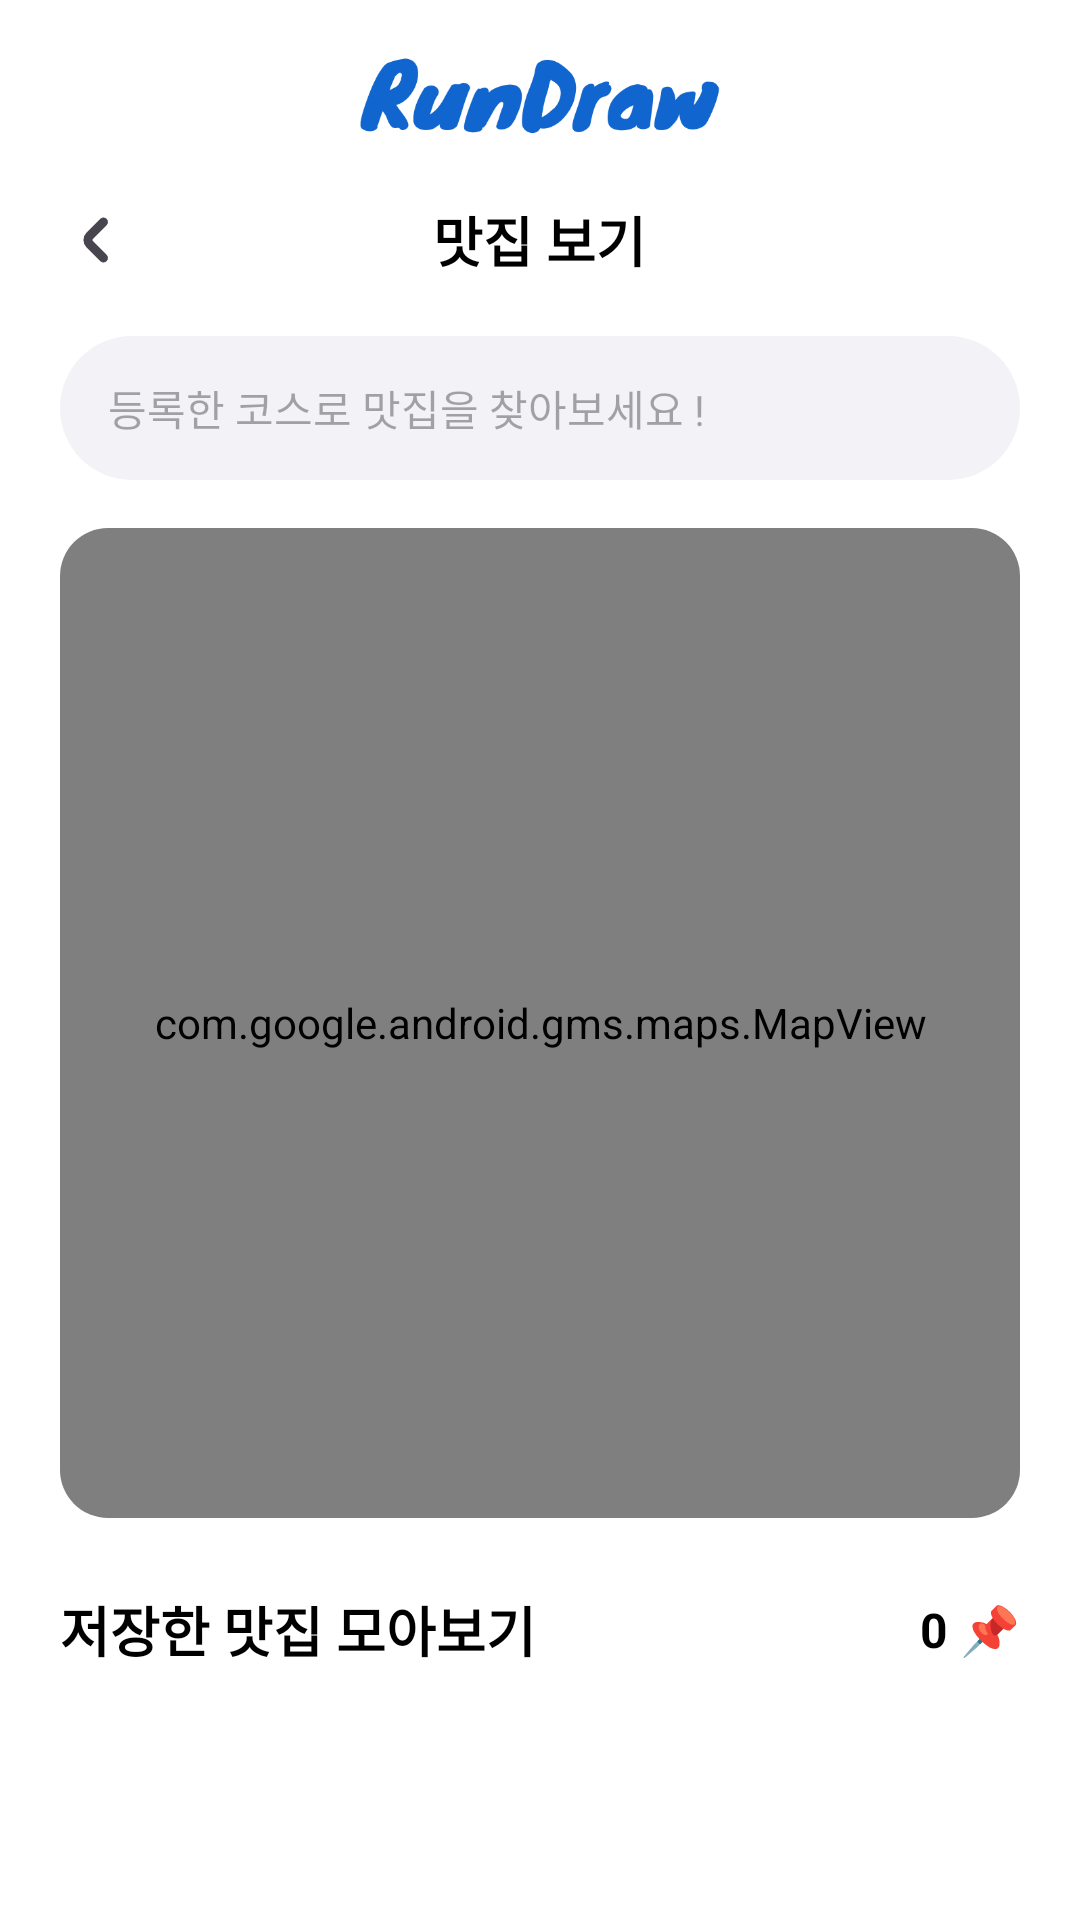

Where icons sit on this 1080 × 1920 app screen, as [x1=x1, y1=y1, x2=x2, y2=y2]:
back: [x1=83, y1=217, x2=108, y2=263]
